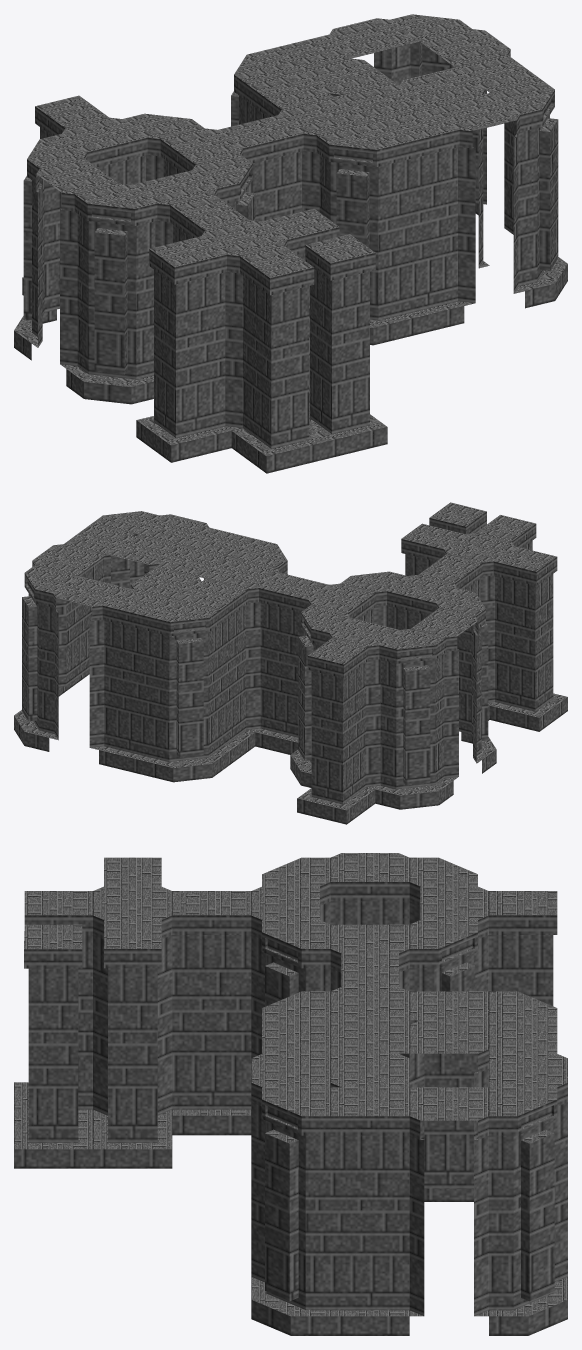
Rendered from walls.fbx.
3 renders of one model, top to bottom at view 1: azimuth 30°, elevation 25°; view 2: azimuth 150°, elevation 25°; view 3: azimuth 270°, elevation 25°, orthographic. The views are drawn at different scales.
Parts seen in each view (by area): view 1: Wall_013, Wall_024, Wall_017, Wall_029, Wall_005, Wall_018, Wall_015, Wall_022, Wall_004, Wall_023, Wall_010, Wall_009 (+45 smaller); view 2: Wall_022, Wall_020, Wall_024, Wall_027, Wall_019, Wall_023, Wall_025, Wall_002, Wall_013, Wall_006, Wall_010, Wall_026 (+43 smaller); view 3: Wall_014, Wall_000, Wall_015, Wall_025, Wall_029, Wall_028, Wall_008, Wall_002, Wall_009, Wall_027, Wall_017, Wall_016 (+39 smaller).
Boxes of the visible parts, x1,y1,x2,y2 form: Wall_013: (66,194,157,404); Wall_024: (136,249,231,462); Wall_017: (231,256,327,473); Wall_029: (305,245,387,458); Wall_005: (397,130,464,337); Wall_018: (316,135,403,345); Wall_015: (518,90,567,308); Wall_022: (14,153,87,360); Wall_004: (458,116,524,305); Wall_023: (243,134,303,221); Wall_010: (32,174,77,368); Wall_009: (225,240,287,430); Wall_022: (375,638,453,809); Wall_020: (148,610,226,782); Wall_024: (489,557,567,731); Wall_027: (297,646,375,824); Wall_019: (99,606,153,775); Wall_023: (255,588,308,754); Wall_025: (14,573,54,751); Wall_002: (217,589,255,766); Wall_013: (436,603,496,773); Wall_006: (50,594,104,749); Wall_010: (444,621,481,780); Wall_026: (290,613,329,787); Wall_014: (172,915,251,1135); Wall_000: (330,1116,409,1335); Wall_015: (251,1099,330,1335); Wall_025: (489,1100,567,1335); Wall_029: (14,949,92,1168); Wall_028: (93,949,172,1168); Wall_008: (409,1116,488,1316); Wall_002: (409,1020,477,1201); Wall_009: (93,915,172,1115); Wall_027: (489,915,557,1005); Wall_017: (14,915,92,1115); Wall_016: (262,932,330,1006).
Bounding box in the file's own units: 320 × 280 × 120.
Materials: 1 (1 with a texture image).
